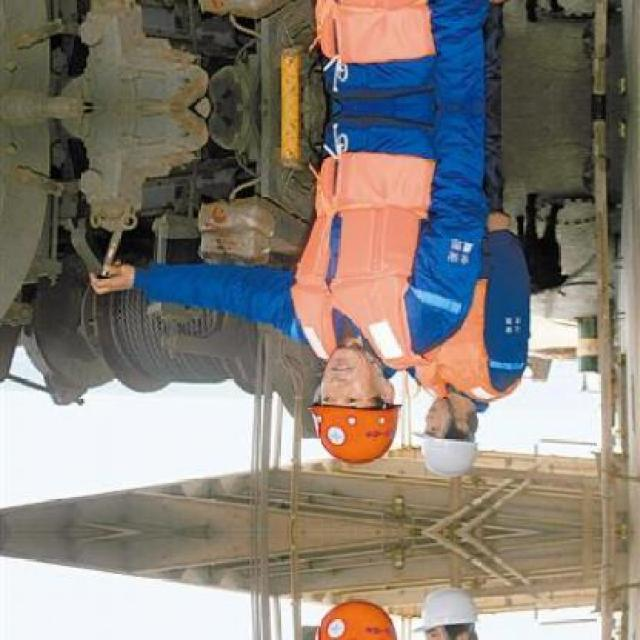safetyhelmet: (311, 349, 404, 469), (417, 392, 485, 483)
